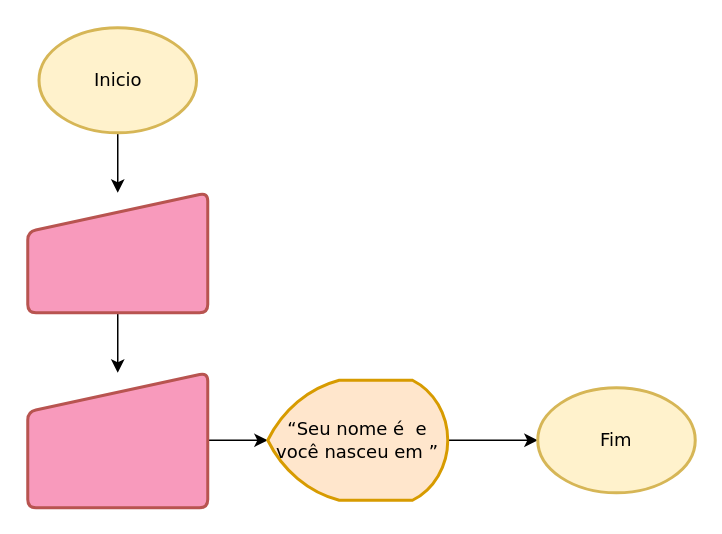
The diagram is 722 pixels wide and 534 high, and some of its shapes have lost their labels. Here are the shapes that lost their labels. From the top down, the centre of each, then its label:
At (117,252): "Nome".
At (117,439): "Data de nascimento".
